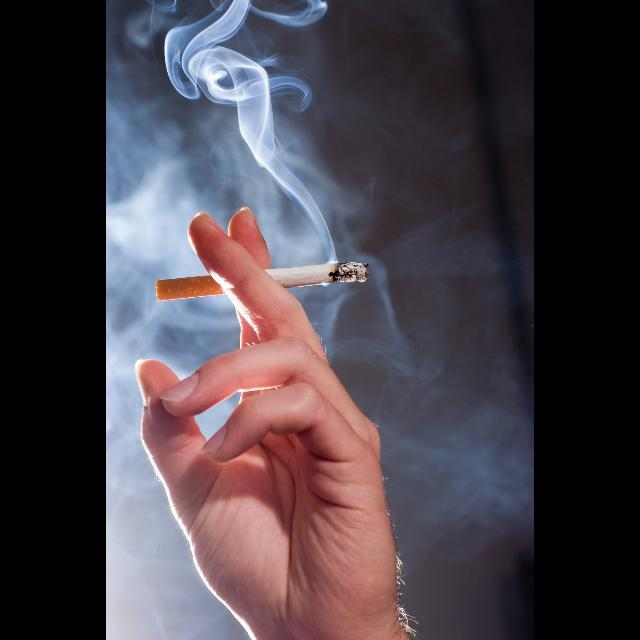rokok: (153, 248, 374, 302)
